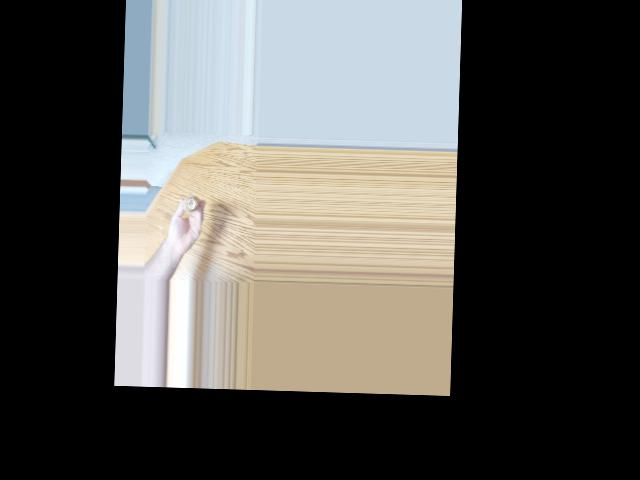sweet_potato: (180, 190, 197, 212)
